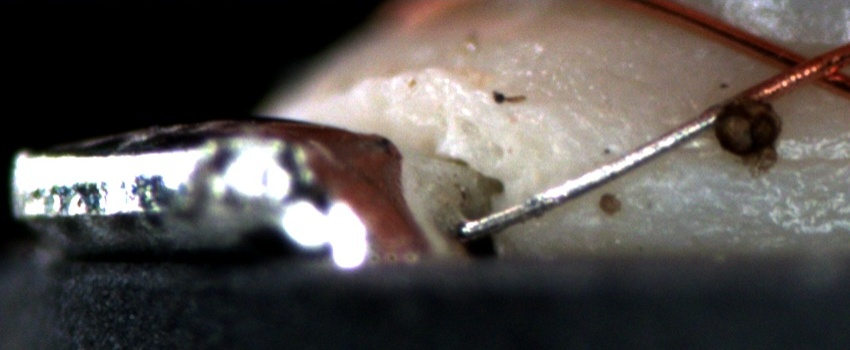CL: (758, 38, 846, 93)
DL: (639, 130, 850, 194)
TS: (458, 106, 722, 237)
